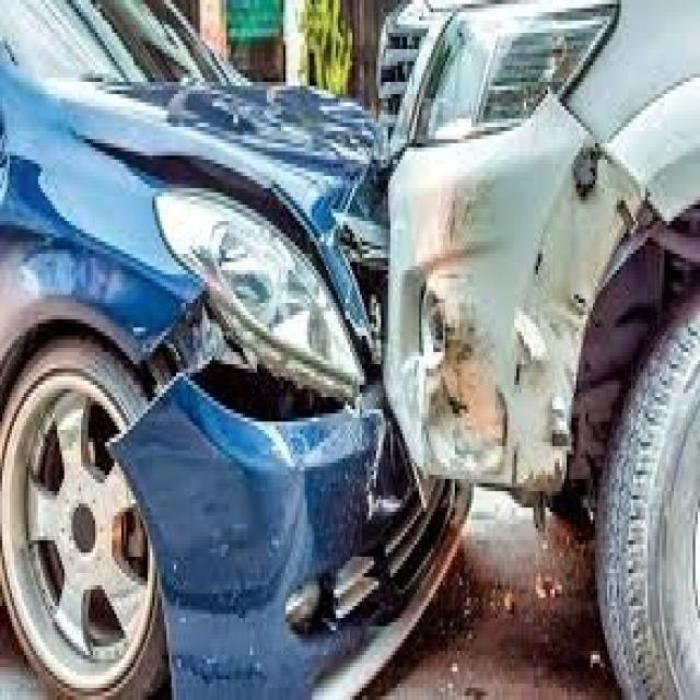Accident: (59, 0, 647, 681)
